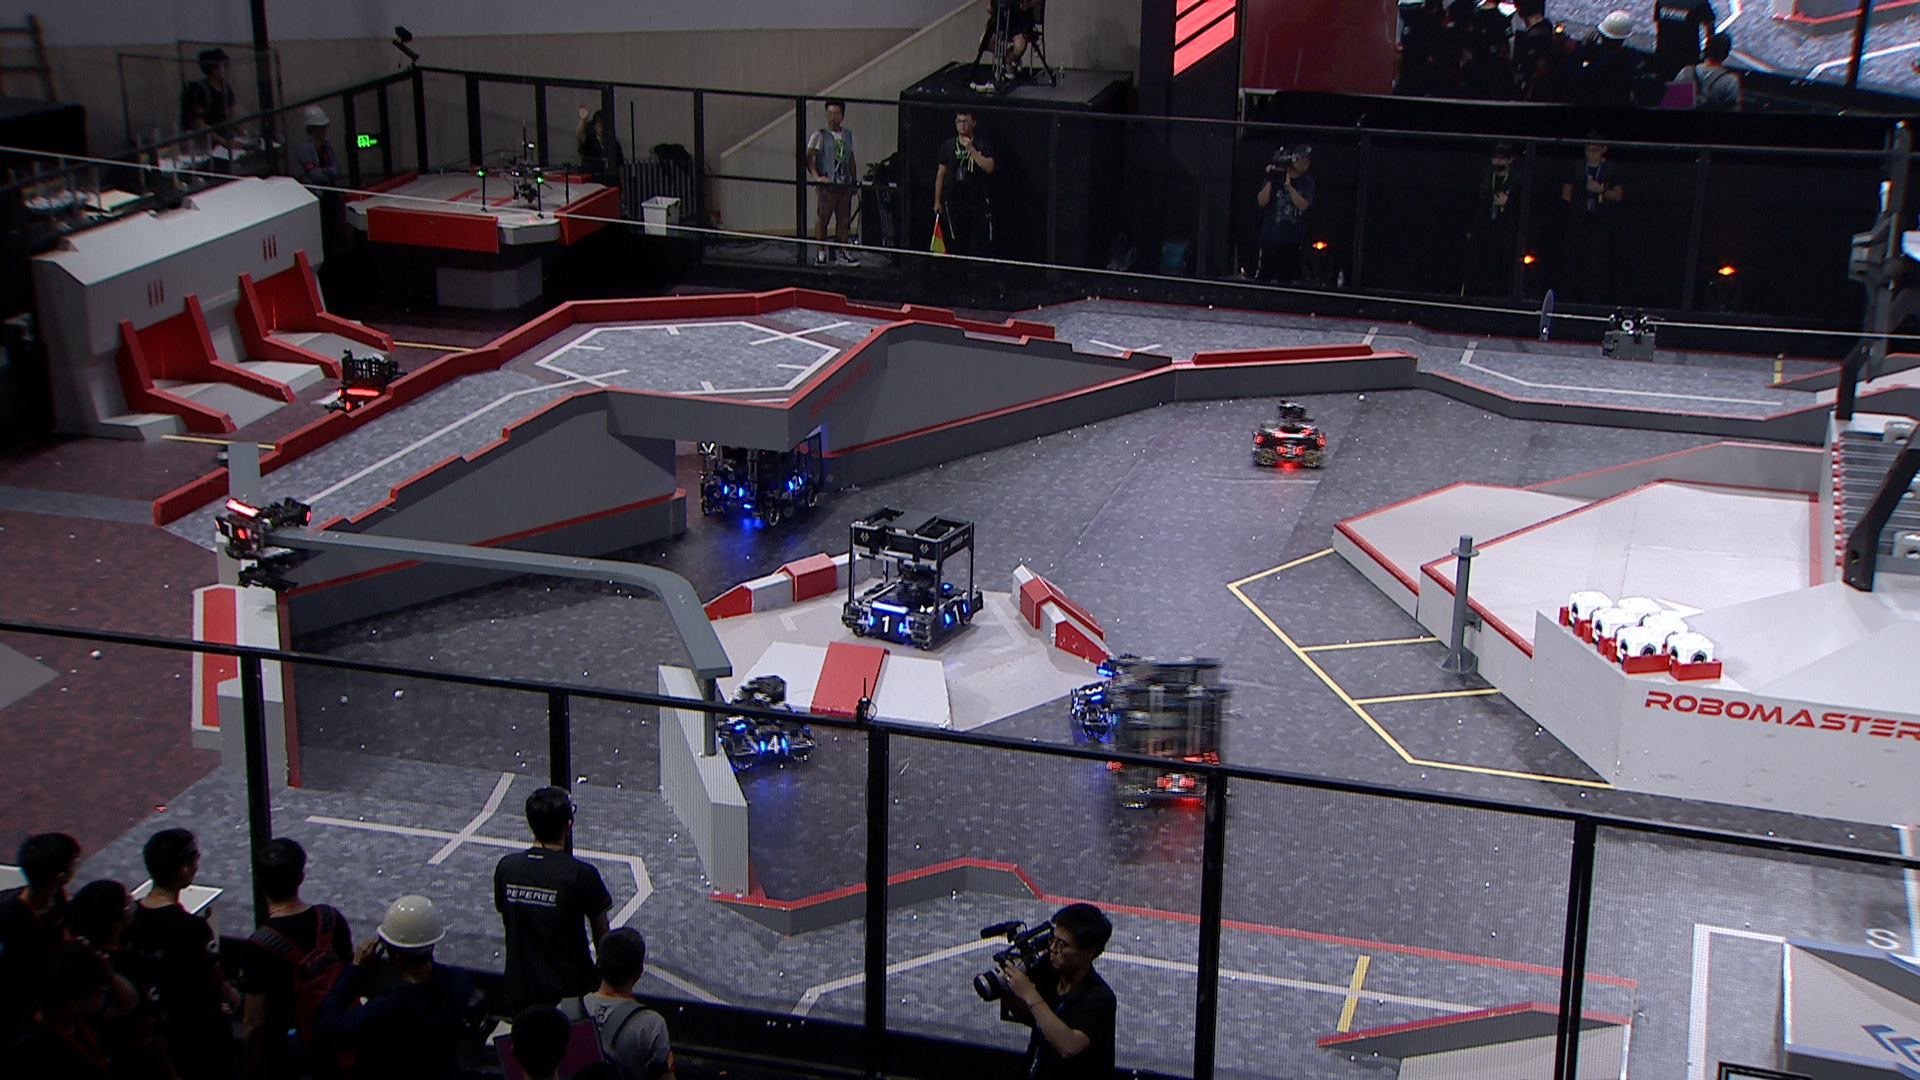armor: (214, 520, 249, 541), (1156, 774, 1196, 793), (869, 615, 907, 633), (754, 735, 787, 756), (1273, 443, 1304, 460), (942, 603, 968, 622), (345, 394, 371, 411), (723, 711, 741, 731), (723, 483, 744, 500), (1087, 680, 1102, 700), (787, 473, 804, 491), (1302, 418, 1313, 434), (1251, 433, 1263, 448), (1069, 698, 1079, 713)
car: (841, 501, 982, 655), (1100, 655, 1236, 807), (695, 406, 825, 526), (708, 671, 816, 770), (1060, 657, 1147, 742), (324, 356, 415, 433), (1250, 400, 1328, 472)
watcher: (206, 495, 314, 597)
